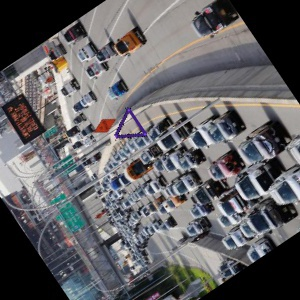triangle: (112, 103, 148, 140)
